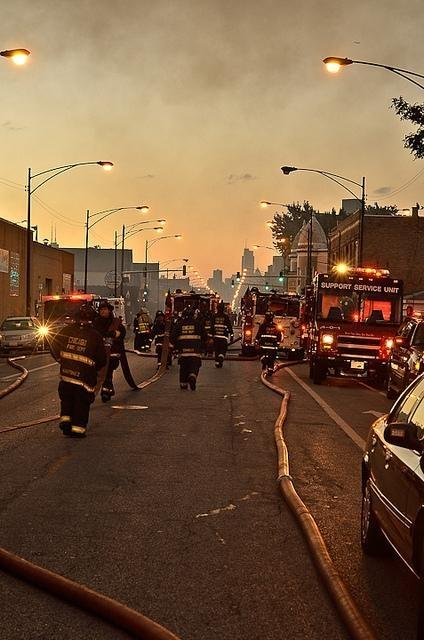car: (355, 372, 424, 586), (386, 312, 424, 398), (0, 316, 45, 355)
truck: (302, 263, 403, 383), (240, 286, 309, 360), (168, 294, 212, 314)
